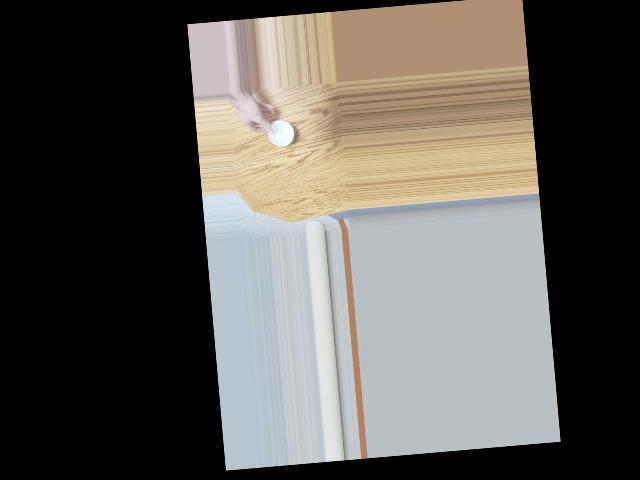cotage: (266, 119, 295, 149)
